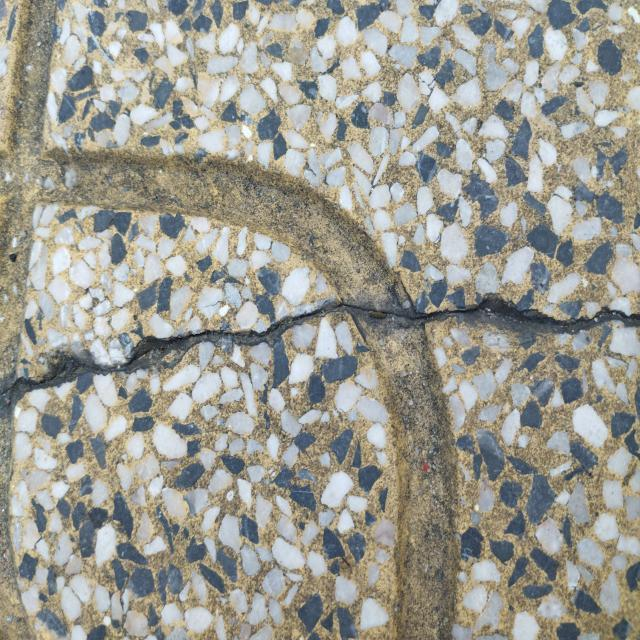horizontal crack: (0, 298, 639, 396)
